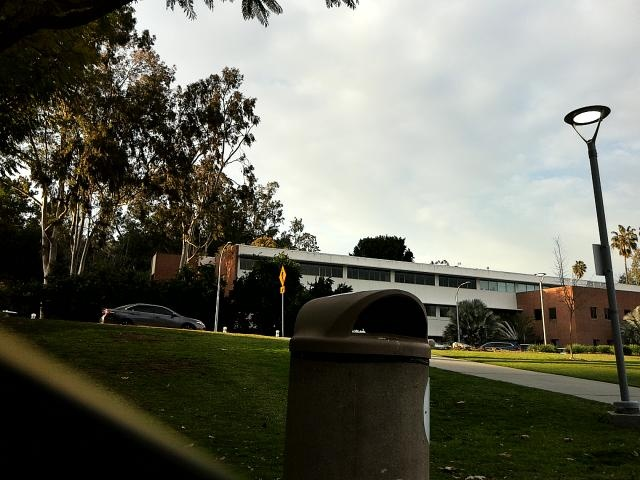trashcan: (281, 284, 448, 480)
